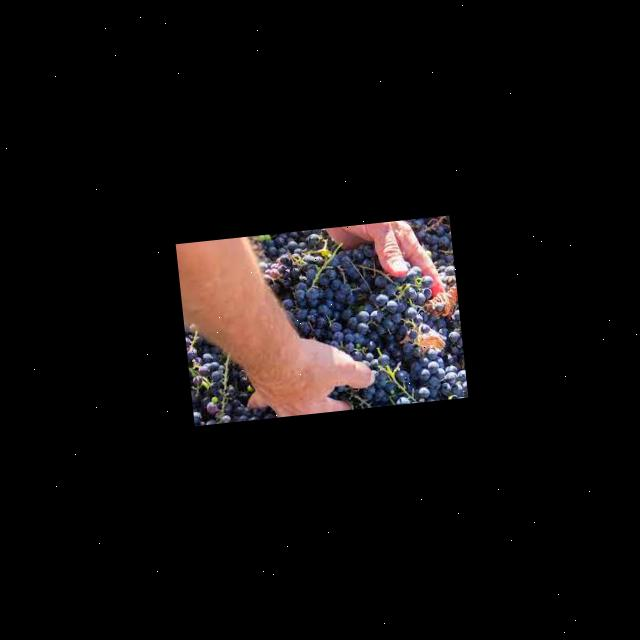grape: (248, 215, 466, 416), (183, 314, 275, 424)
